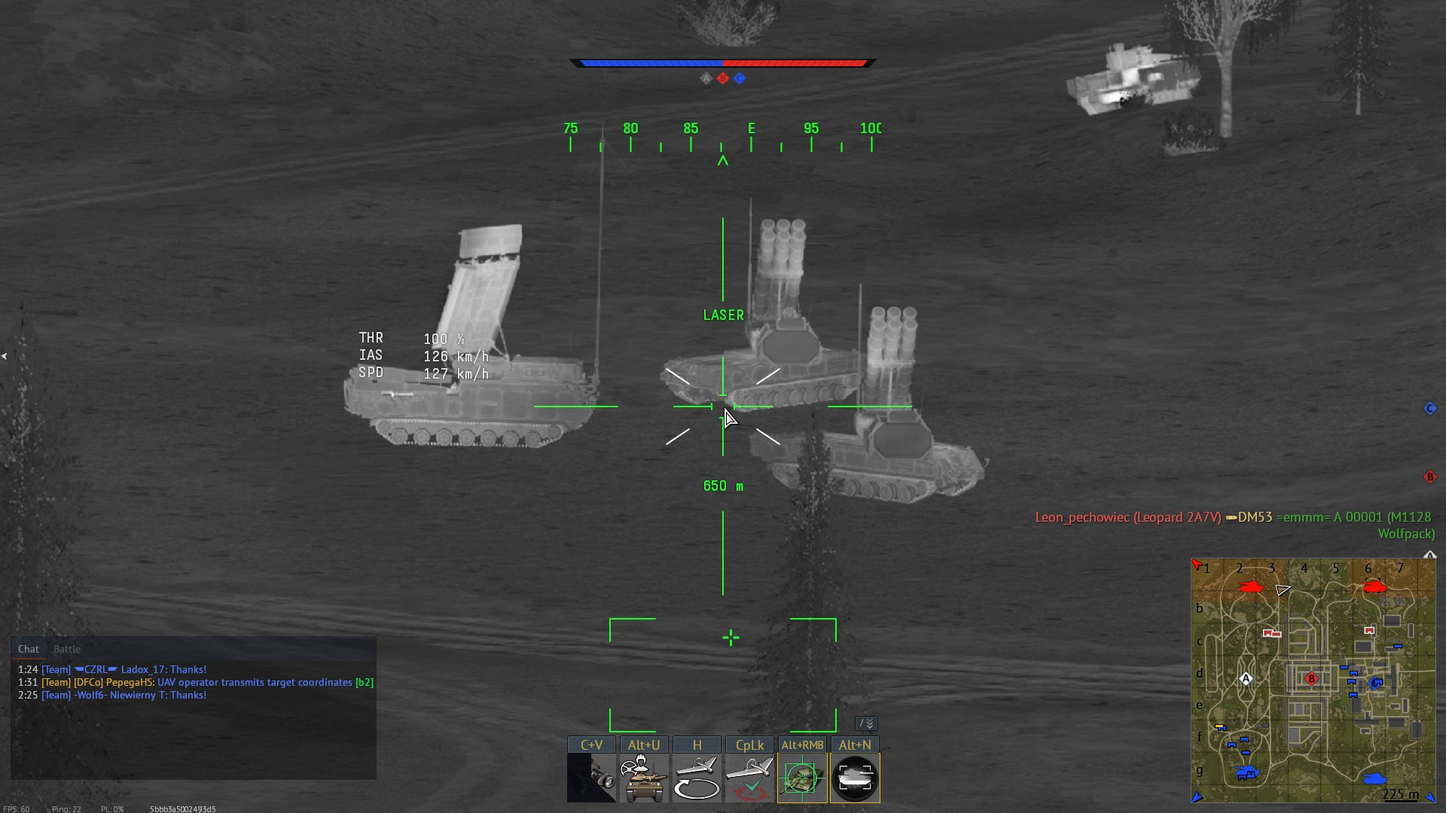BUK_TADS: (326, 222, 604, 449)
BUK_TELAR: (741, 306, 1003, 504), (661, 219, 866, 417)
